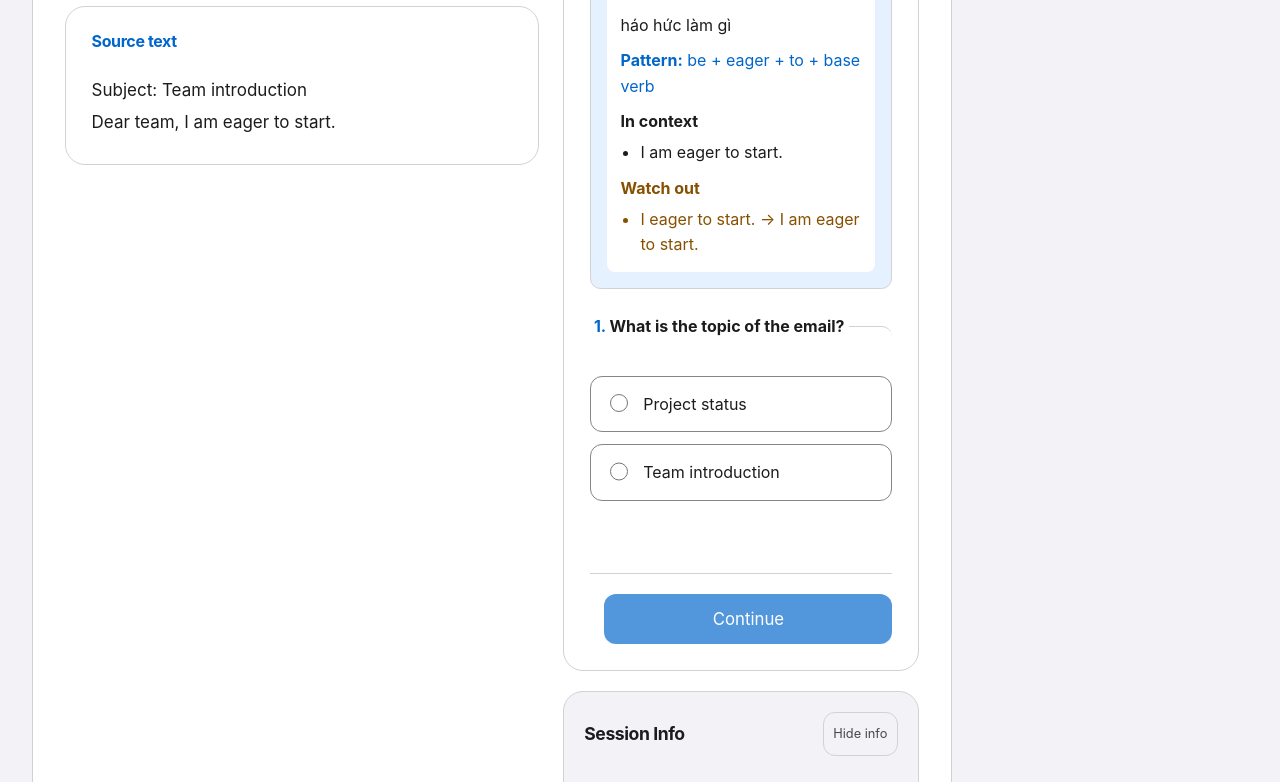
SessionShell and Activity Renderers › shows evaluation feedback when a comprehension answer needs another attempt
(page scrolled)
Click the radio button labelled "Project status" at (619,403), box [610,394,628,412]
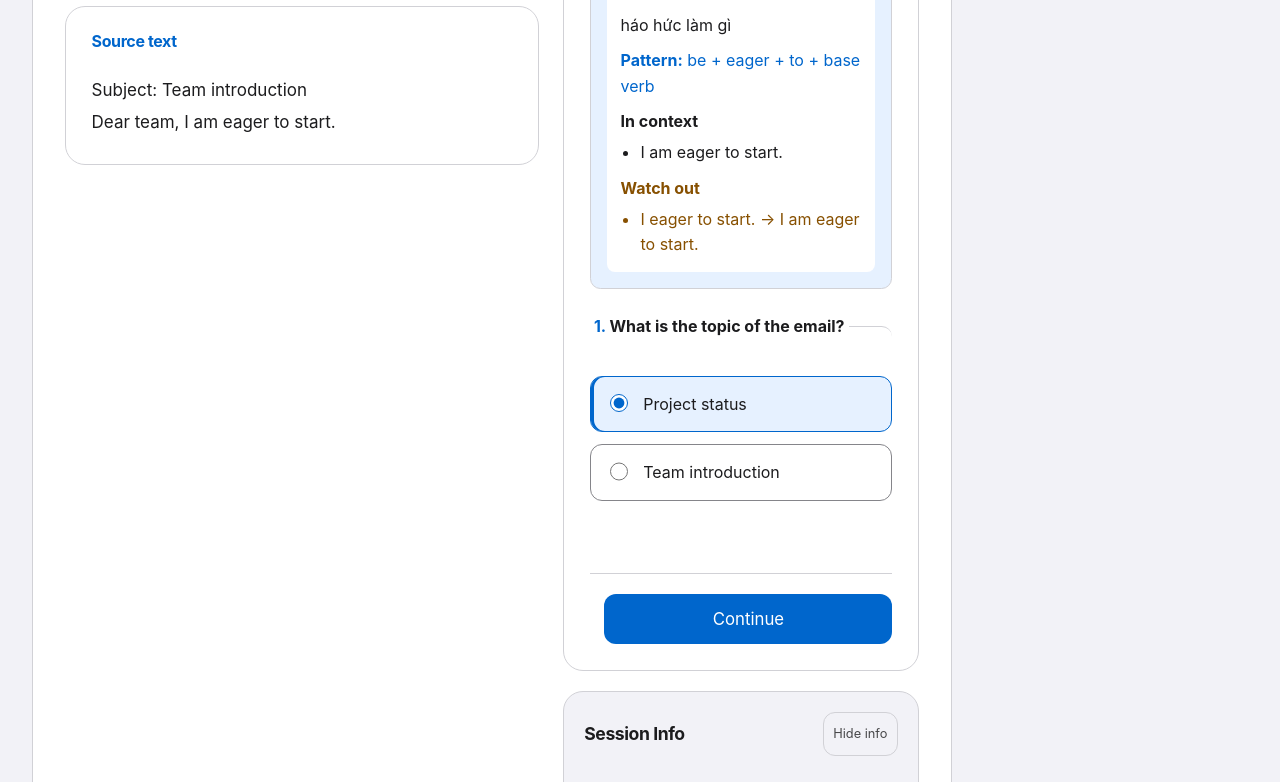
Click the button "Continue" at (748,619), box [604,594,892,644]
(page scrolled)
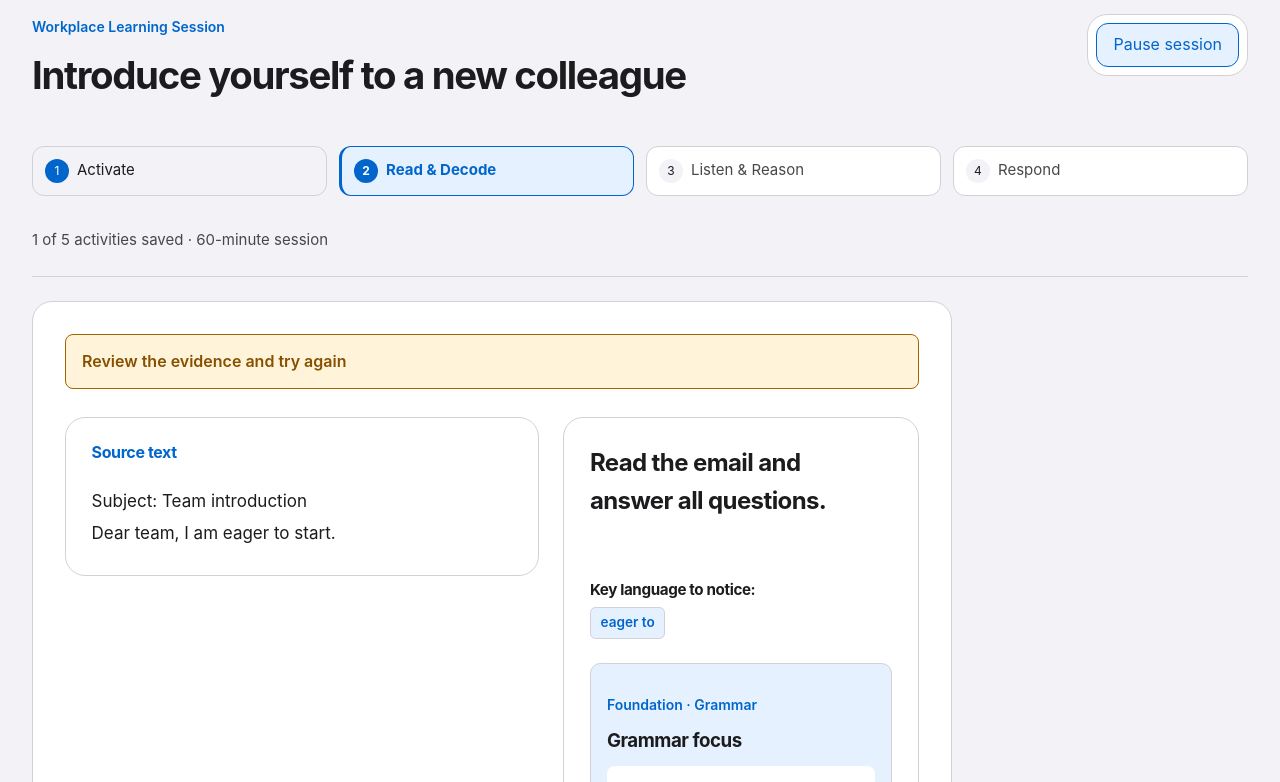
Result: the message reads "Review the evidence and try again" at [82,351,346,371]
